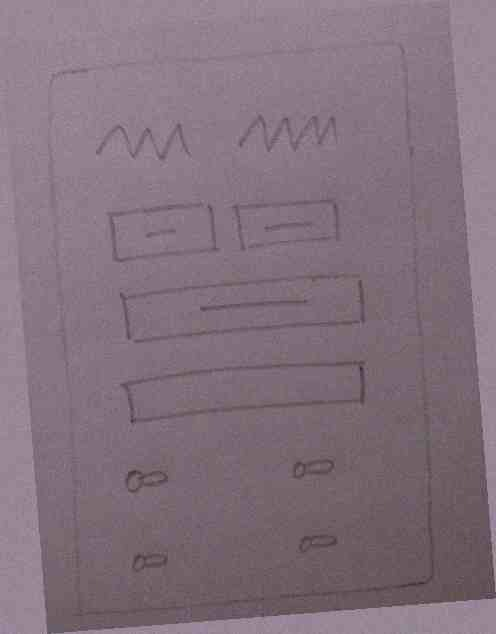button: (106, 264, 381, 350), (95, 194, 228, 270), (227, 187, 349, 255)
switch: (281, 518, 371, 564), (276, 444, 350, 491), (112, 452, 178, 504), (114, 538, 190, 582)
text: (227, 97, 354, 166), (84, 108, 204, 171)
text_input: (116, 347, 379, 430)
